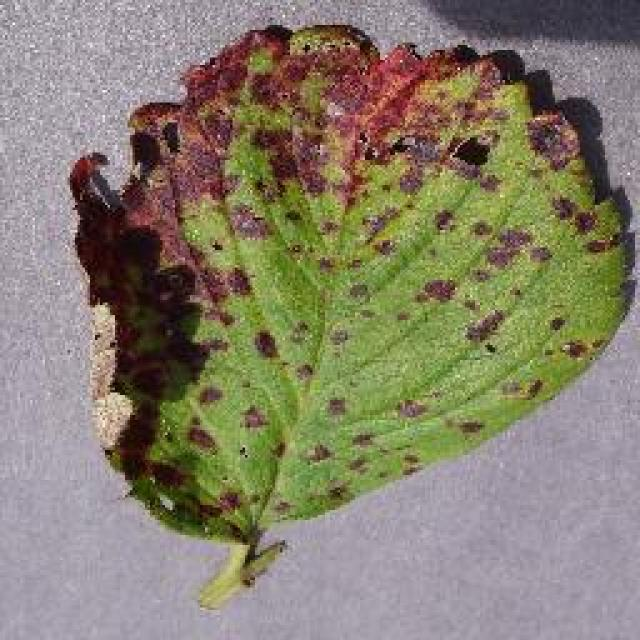Strawberry leaf scorch: (143, 46, 522, 402)
